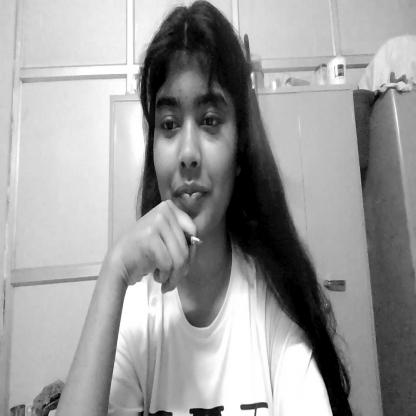Normal: (144, 10, 244, 247)
